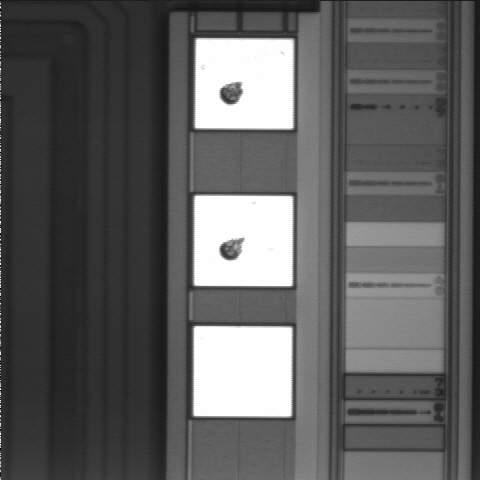pad: (195, 38, 293, 129), (194, 326, 292, 417), (194, 196, 293, 286)
